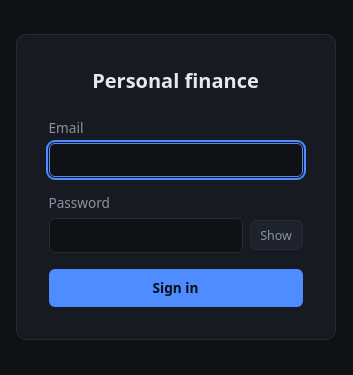
Test: LoginPage › toggles password visibility and warns about Caps Lock
Click the button "Show" at (276, 235), box left=250, top=220, right=302, bottom=250
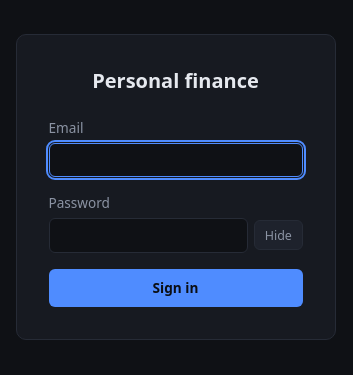
expect the text "Caps Lock is on." is not shown: met
Press a in the field labelled "Password Hide", box left=48, top=218, right=248, bottom=253
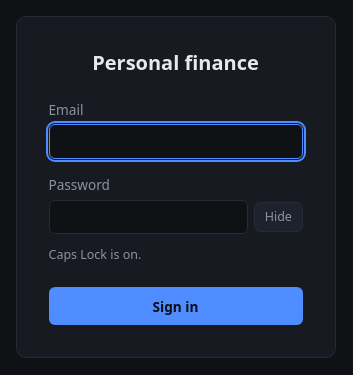
expect the text "Caps Lock is on." is shown: met, box left=48, top=246, right=141, bottom=263
